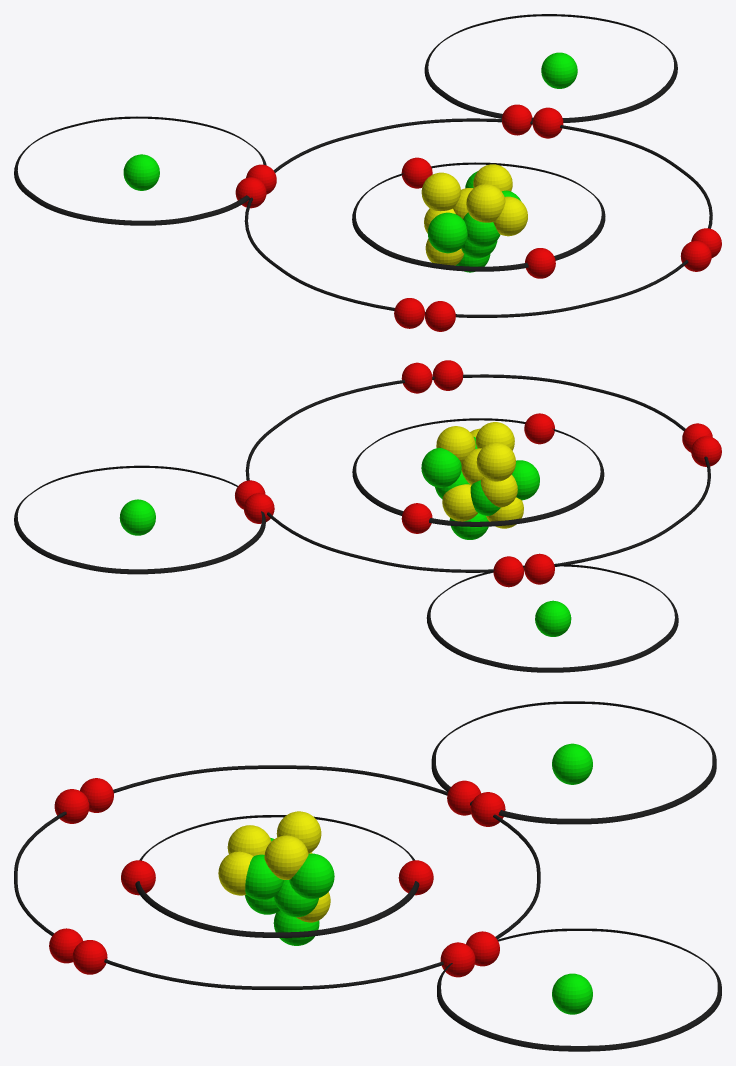
3 views of the same model, one above another, from view 1: azimuth 30°, elevation 25°; view 2: azimuth 150°, elevation 25°; view 3: azimuth 270°, elevation 25° (orthographic). The views are drawn at different scales.
Visible parts, largest first — view 1: Sphere.010, NurbsCircle.001, Sphere, NurbsCircle.002, NurbsCircle, NurbsCircle.003, Sphere.007, Sphere.006, Sphere.008, Sphere.005, Sphere.002, Sphere.001 (+2 smaller); view 2: Sphere.010, Sphere, NurbsCircle.001, NurbsCircle.003, NurbsCircle.002, NurbsCircle, Sphere.005, Sphere.008, Sphere.007, Sphere.006, Sphere.002, Sphere.001 (+2 smaller); view 3: Sphere.010, Sphere, NurbsCircle.001, NurbsCircle.003, NurbsCircle, NurbsCircle.002, Sphere.006, Sphere.008, Sphere.007, Sphere.005, Sphere.001, Sphere.002 (+2 smaller).
Part boxes in pixels (x1=…): Sphere.010: x1=421, y1=164, x2=527, y2=265; NurbsCircle.001: x1=244, y1=118, x2=712, y2=317; Sphere: x1=427, y1=171, x2=521, y2=272; NurbsCircle.002: x1=14, y1=116, x2=266, y2=225; NurbsCircle: x1=352, y1=162, x2=605, y2=271; NurbsCircle.003: x1=424, y1=14, x2=677, y2=122; Sphere.007: x1=394, y1=298, x2=455, y2=331; Sphere.006: x1=502, y1=104, x2=563, y2=138; Sphere.008: x1=680, y1=228, x2=721, y2=271; Sphere.005: x1=235, y1=164, x2=276, y2=208; Sphere.002: x1=541, y1=52, x2=577, y2=88; Sphere.001: x1=123, y1=154, x2=159, y2=190; Sphere.010: x1=436, y1=422, x2=523, y2=528; Sphere: x1=421, y1=437, x2=539, y2=539; NurbsCircle.001: x1=245, y1=374, x2=710, y2=572; NurbsCircle.003: x1=14, y1=465, x2=265, y2=574; NurbsCircle.002: x1=426, y1=564, x2=678, y2=672; NurbsCircle: x1=352, y1=418, x2=604, y2=526; Sphere.005: x1=493, y1=553, x2=554, y2=587; Sphere.008: x1=401, y1=360, x2=463, y2=393; Sphere.007: x1=682, y1=423, x2=721, y2=466; Sphere.006: x1=235, y1=480, x2=274, y2=523; Sphere.002: x1=119, y1=499, x2=155, y2=535; Sphere.001: x1=535, y1=600, x2=571, y2=636; Sphere.010: x1=218, y1=811, x2=330, y2=922; Sphere: x1=245, y1=837, x2=334, y2=945; NurbsCircle.001: x1=14, y1=765, x2=540, y2=989; NurbsCircle.003: x1=437, y1=928, x2=721, y2=1051; NurbsCircle: x1=135, y1=815, x2=419, y2=937; NurbsCircle.002: x1=431, y1=701, x2=716, y2=824; Sphere.006: x1=440, y1=931, x2=499, y2=977; Sphere.008: x1=49, y1=928, x2=107, y2=974; Sphere.007: x1=54, y1=778, x2=113, y2=823; Sphere.005: x1=447, y1=780, x2=505, y2=826; Sphere.001: x1=552, y1=743, x2=592, y2=784; Sphere.002: x1=552, y1=973, x2=592, y2=1014.
Size of the model in its own units: 3.49 by 0.545 by 3.
